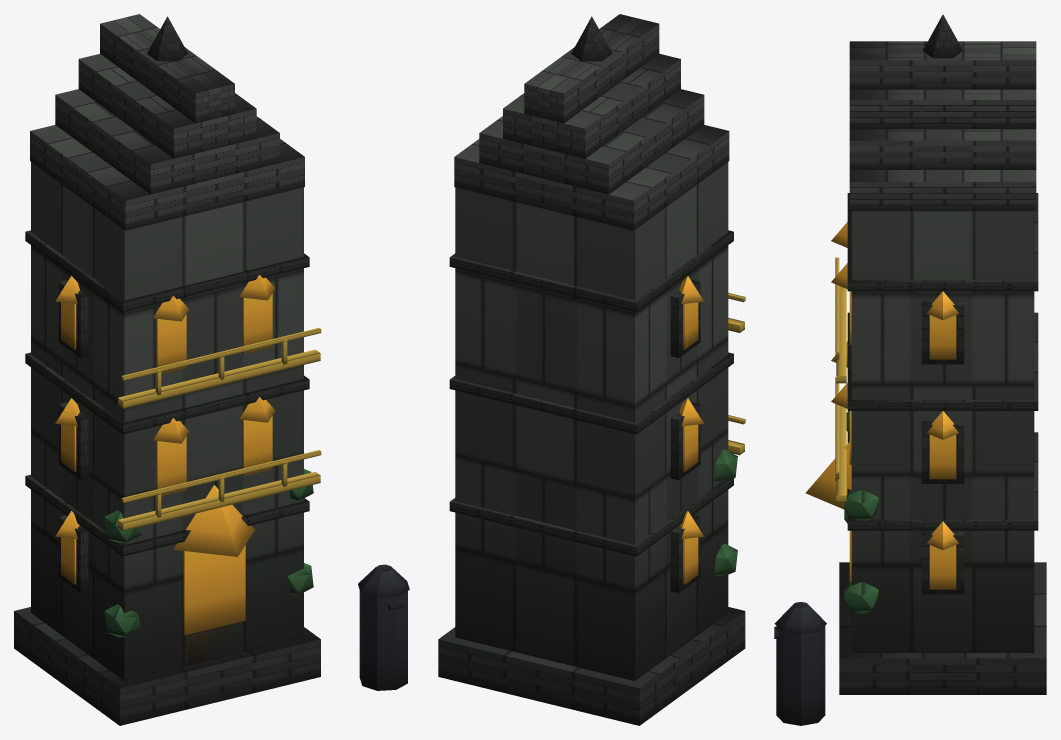
Rendered from rowhouse.obj.
3 renders of one model, left to right at view 1: azimuth 30°, elevation 25°; view 2: azimuth 150°, elevation 25°; view 3: azimuth 270°, elevation 25°, orthographic. The views are drawn at different scales.
Visible parts, largest first — view 1: rowhouse; view 2: rowhouse; view 3: rowhouse.
Boxes of the visible parts, box(x1,y1,x2,y2) form: rowhouse: box(14, 14, 409, 725); rowhouse: box(438, 14, 745, 725); rowhouse: box(774, 14, 1046, 725).
Size of the model in its own units: 1.56 by 3.44 by 1.34.
Materials: 1 (1 with a texture image).
